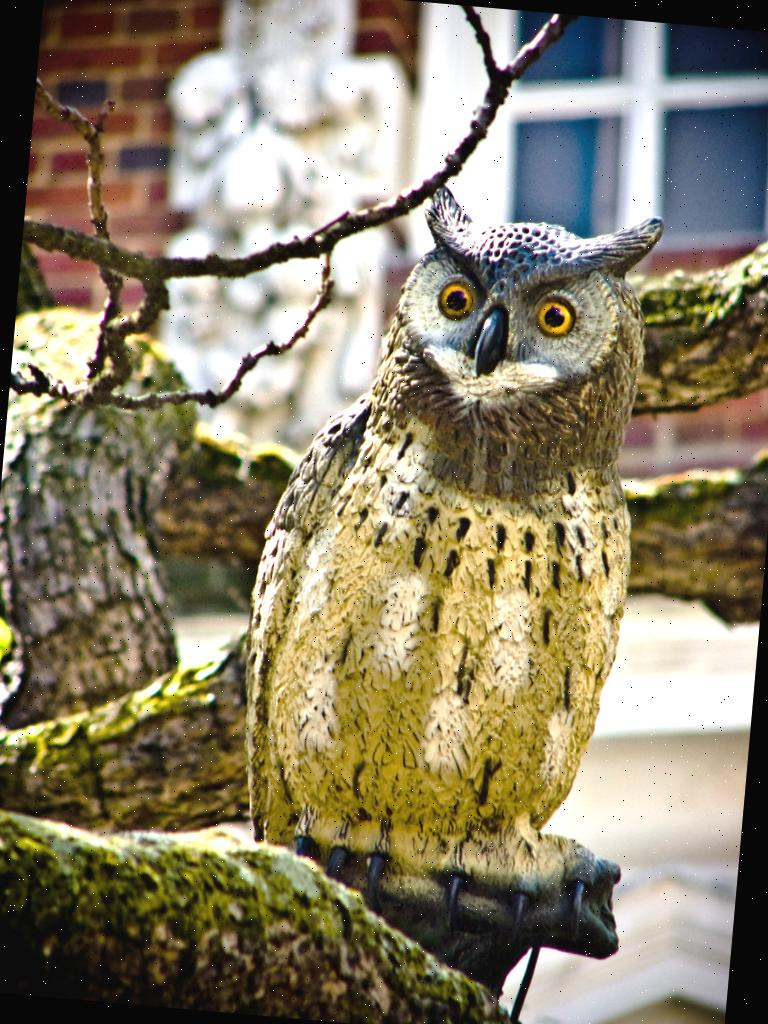Owl: (222, 169, 664, 929)
